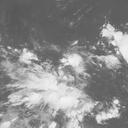cyclone: (21, 52, 94, 115)
